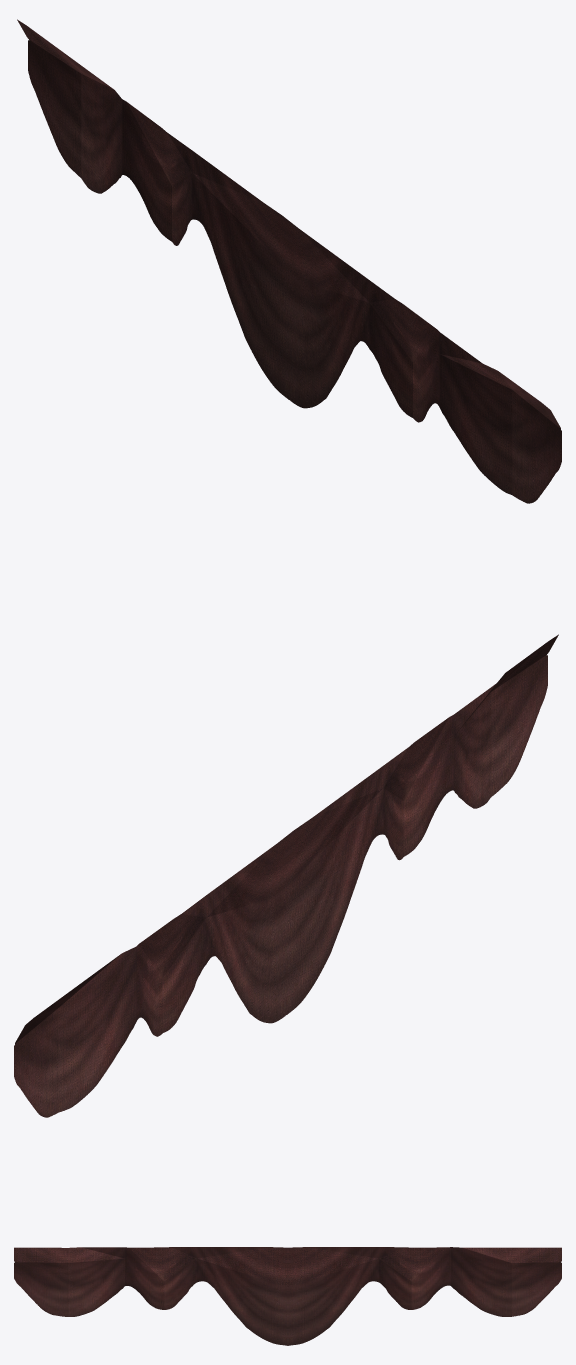
Rendered from bg_lut_lucastle_castlecurtain01_sm_ysi.FBX.
3 views of the same model, one above another, from view 1: azimuth 30°, elevation 25°; view 2: azimuth 150°, elevation 25°; view 3: azimuth 270°, elevation 25° (orthographic). The views are drawn at different scales.
Visible parts, largest first — view 1: bg_lut_lucastle_castlecurtain01_sm_ysi; view 2: bg_lut_lucastle_castlecurtain01_sm_ysi; view 3: bg_lut_lucastle_castlecurtain01_sm_ysi.
Part boxes in pixels (x1,y1,x2,y2): bg_lut_lucastle_castlecurtain01_sm_ysi: [17, 19, 561, 503]; bg_lut_lucastle_castlecurtain01_sm_ysi: [14, 634, 558, 1117]; bg_lut_lucastle_castlecurtain01_sm_ysi: [14, 1247, 561, 1345].
Size of the model in its own units: 14.62 by 151 by 737.
